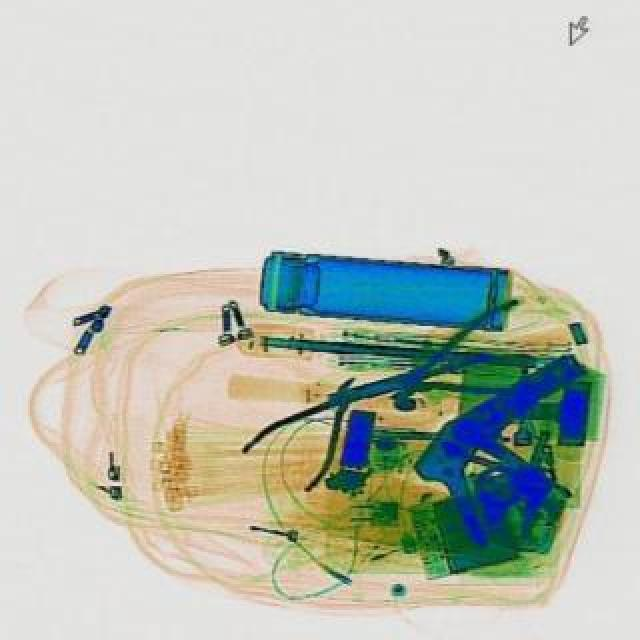wrench: (366, 298, 558, 442), (238, 358, 392, 504)
